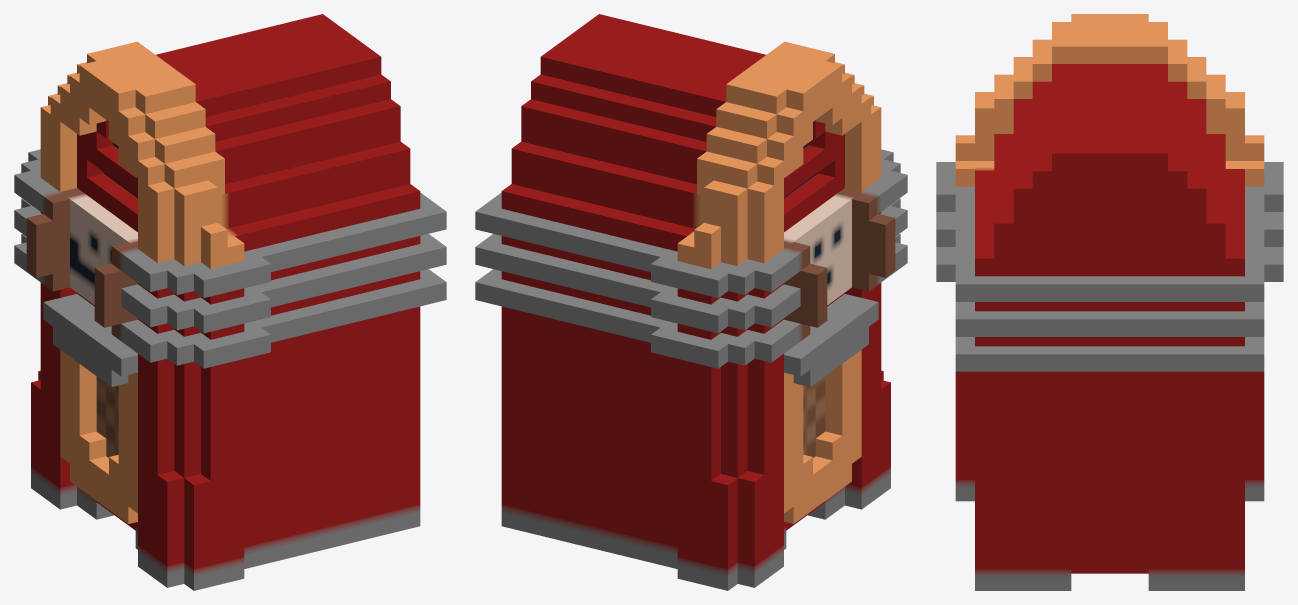
Rendered from BlankFile.fbx.
The picture shows the model from 3 angles, left to right: view 1: azimuth 30°, elevation 25°; view 2: azimuth 150°, elevation 25°; view 3: azimuth 270°, elevation 25°; orthographic projection.
Visible parts, largest first — view 1: pl0; view 2: pl0; view 3: pl0.
Boxes of the visible parts, x1=… form: pl0: x1=14, y1=14, x2=446, y2=590; pl0: x1=475, y1=14, x2=907, y2=590; pl0: x1=936, y1=14, x2=1283, y2=590.
Size of the model in its own units: 18 by 18 by 26.
Materials: 1 (1 with a texture image).
